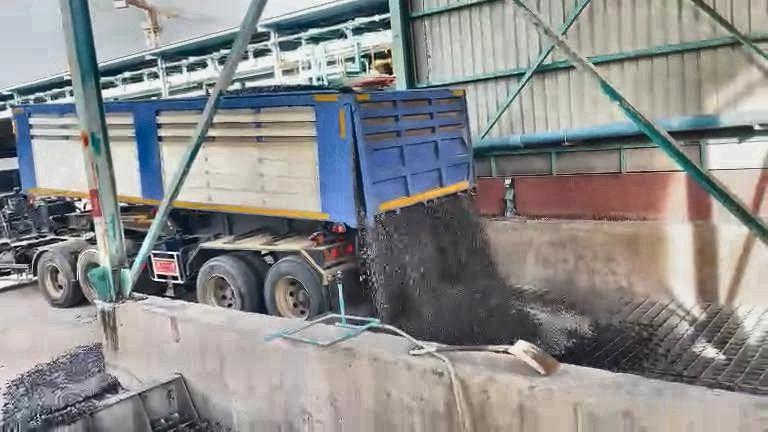gravel: (364, 195, 565, 352), (1, 344, 119, 431)
